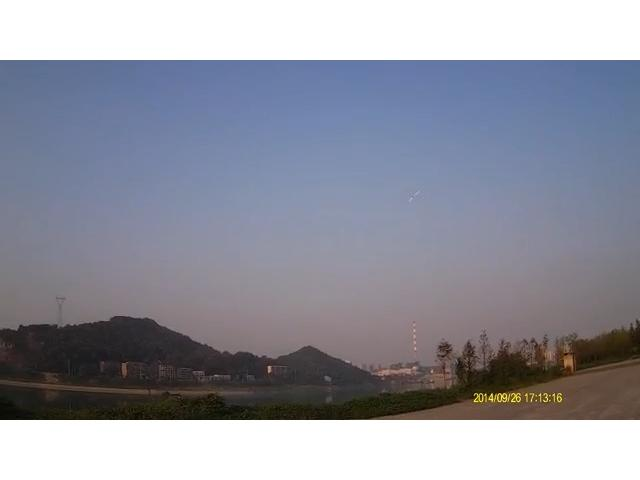Anti-Drone: (394, 186, 434, 206)
